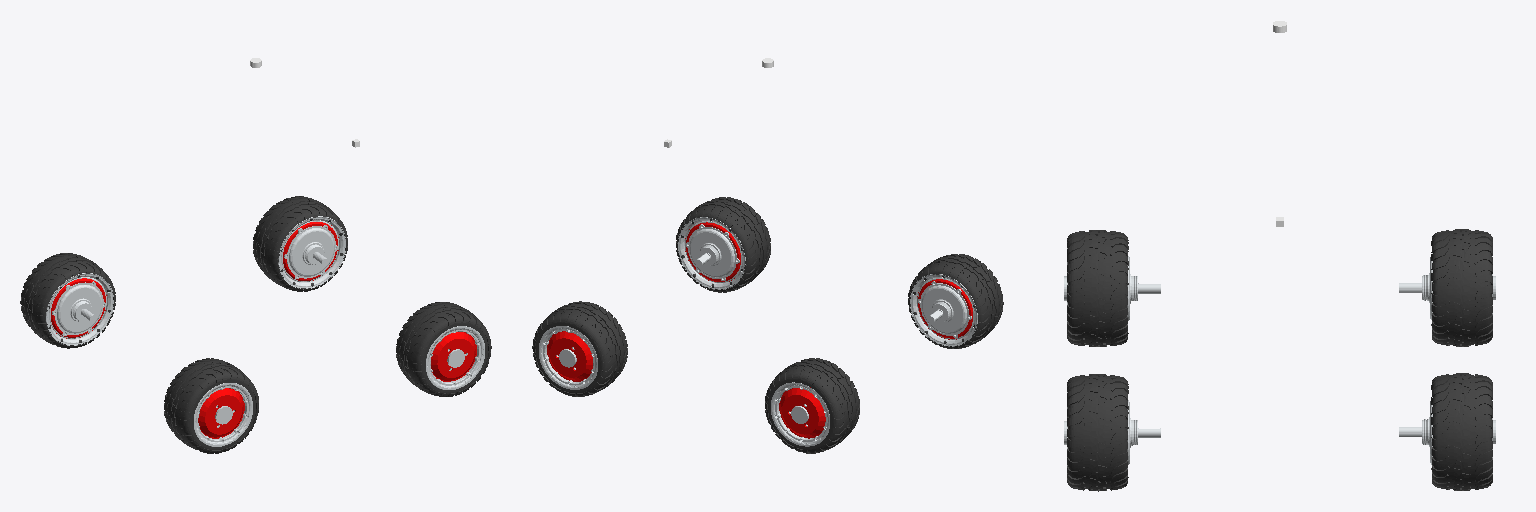
The robot description file, URDF, robot "scout_mini":
<?xml version="1.0" encoding="utf-8"?>
<!-- =================================================================================== -->
<!-- |    This document was autogenerated by xacro from mini.xacro                     | -->
<!-- |    EDITING THIS FILE BY HAND IS NOT RECOMMENDED                                 | -->
<!-- =================================================================================== -->
<robot name="scout_mini">
  <!--    <xacro:property name="track" value="0.3426" />
    <xacro:property name="wheelbase" value="0.3181"/>
    <xacro:property name="wheel_vertical_offset" value="-0.160000047342231" />-->
  <!-- Base link -->
  <link name="base_link">
    <visual>
      <origin rpy="1.57 0 -1.57" xyz="0 0 0.0"/>
      <geometry>
        <mesh filename="package://scout_description/meshes/scout_mini_base_link2.dae"/>
      </geometry>
    </visual>
    <collision>
      <origin rpy="1.57 0 -1.57" xyz="0 0 0"/>
      <geometry>
        <mesh filename="package://scout_description/meshes/scout_mini_base_link2.dae"/>
      </geometry>
    </collision>
  </link>
  <!-- <joint name="chassis_link_joint" type="fixed">
        <origin xyz="0 0 ${wheel_radius - wheel_vertical_offset}" rpy="0 0 0" />
        <parent link="base_link" />
        <child link="chassis_link" />
    </joint> -->
  <link name="inertial_link">
    <inertial>
      <mass value="60"/>
      <origin xyz="0.0 0.0 0.0"/>
      <inertia ixx="2.288641" ixy="0" ixz="0" iyy="5.103976" iyz="0" izz="3.431465"/>
    </inertial>
  </link>
  <joint name="inertial_joint" type="fixed">
    <origin rpy="0 0 0" xyz="0 0 0"/>
    <parent link="base_link"/>
    <child link="inertial_link"/>
  </joint>
  <!-- For testing, hang the robot up in the air -->
  <!-- <link name="world" />
    <joint name="world_to_base_link=" type="fixed">
        <origin xyz="0 0 0.5" rpy="0 0 0" />
        <parent link="world"/>
        <child link="base_link"/>
    </joint> -->
  <link name="front_left_wheel_link">

    <inertial>
      <mass value="3"/>
      <origin xyz="0 0 0"/>
      <inertia ixx="0.7171" ixy="0" ixz="0" iyy="0.7171" iyz="0" izz="0.1361"/>
      <!--<inertia ixx="0" ixy="0" ixz="0" iyy="0" iyz="0" izz="0" />-->
    </inertial>
    <visual>
      <origin rpy="0 0 0" xyz="0 0 0"/>
      <geometry>
        <mesh filename="package://scout_description/meshes/wheel.dae"/>
      </geometry>
    </visual>
    <collision>
      <origin rpy="0 0 0" xyz="0 0 0"/>
      <geometry>
        <mesh filename="package://scout_description/meshes/wheel.dae"/>
      </geometry>
    </collision>
  </link>
  <joint name="front_left_wheel" type="continuous">
    <!--<origin
                  xyz="0.14547 0.20835 -0.07424"
                  rpy="0 1.57 0" />-->
    <parent link="base_link"/>
    <child link="front_left_wheel_link"/>
    <origin rpy="-1.57 0 0" xyz="0.2319755 0.2082515 -0.100998"/>
    <axis rpy="0 0 0" xyz="0 0 -1"/>
  </joint>
  <link name="rear_left_wheel_link">

    <inertial>
      <mass value="3"/>
      <origin xyz="0 0 0"/>
      <inertia ixx="0.7171" ixy="0" ixz="0" iyy="0.7171" iyz="0" izz="0.1361"/>
      <!--<inertia ixx="0" ixy="0" ixz="0" iyy="0" iyz="0" izz="0" />-->
    </inertial>
    <visual>
      <origin rpy="0 0 0" xyz="0 0 0"/>
      <geometry>
        <mesh filename="package://scout_description/meshes/wheel.dae"/>
      </geometry>
    </visual>
    <collision>
      <origin rpy="0 0 0" xyz="0 0 0"/>
      <geometry>
        <mesh filename="package://scout_description/meshes/wheel.dae"/>
      </geometry>
    </collision>
  </link>
  <joint name="rear_left_wheel" type="continuous">
    <!--<origin
                  xyz="-0.17453 0.20835 -0.07424"
                  rpy="0 -1.57 0" />-->
    <parent link="base_link"/>
    <child link="rear_left_wheel_link"/>
    <origin rpy="-1.57 0 0" xyz="-0.2319755 0.2082515 -0.100998"/>
    <axis rpy="0 0 0" xyz="0 0 -1"/>
  </joint>
  <link name="front_right_wheel_link">

    <inertial>
      <mass value="3"/>
      <origin xyz="0 0 0"/>
      <inertia ixx="0.7171" ixy="0" ixz="0" iyy="0.7171" iyz="0" izz="0.1361"/>
      <!--<inertia ixx="0" ixy="0" ixz="0" iyy="0" iyz="0" izz="0" />-->
    </inertial>
    <visual>
      <origin rpy="0 0 0" xyz="0 0 0"/>
      <geometry>
        <mesh filename="package://scout_description/meshes/wheel.dae"/>
      </geometry>
    </visual>
    <collision>
      <origin rpy="0 0 0" xyz="0 0 0"/>
      <geometry>
        <mesh filename="package://scout_description/meshes/wheel.dae"/>
      </geometry>
    </collision>
  </link>
  <joint name="front_right_wheel" type="continuous">
    <!--<origin
                  xyz="-0.17453 -0.24424 -0.07424"
                  rpy="0 -1.57 0" />-->
    <parent link="base_link"/>
    <child link="front_right_wheel_link"/>
    <origin rpy="1.57 0 0" xyz="0.2319755 -0.2082515 -0.099998"/>
    <axis rpy="0 0 0" xyz="0 0 -1"/>
  </joint>
  <link name="rear_right_wheel_link">
    <!--<inertial>
        <mass value="3" />
            <origin
                    xyz="0.235244832119832 -0.0585653794466942 -0.206994929144493"
                    rpy="0 0 0" />
                    <inertia ixx="0.7171" ixy="0" ixz="0" iyy="0.1361" iyz="0" izz="0.7171" />
        </inertial>
        <visual>
            <origin xyz="0 0 0" rpy="0 0 0" />
            <geometry>
                <mesh filename="package://scout_description/meshes/wheel.dae" />
            </geometry>
        </visual>-->
    <inertial>
      <mass value="3"/>
      <origin xyz="0 0 0"/>
      <inertia ixx="0.7171" ixy="0" ixz="0" iyy="0.7171" iyz="0" izz="0.1361"/>
      <!--<inertia ixx="0" ixy="0" ixz="0" iyy="0" iyz="0" izz="0" />-->
    </inertial>
    <visual>
      <origin rpy="0 0 0" xyz="0 0 0"/>
      <geometry>
        <mesh filename="package://scout_description/meshes/wheel.dae"/>
      </geometry>
    </visual>
    <collision>
      <origin rpy="0 0 0" xyz="0 0 0"/>
      <geometry>
        <mesh filename="package://scout_description/meshes/wheel.dae"/>
      </geometry>
    </collision>
  </link>
  <joint name="rear_right_wheel" type="continuous">
    <!--<origin
                  xyz="0.19247 -0.24486 -0.073441"
                  rpy="-0 1.57 0" />-->
    <parent link="base_link"/>
    <child link="rear_right_wheel_link"/>
    <origin rpy="1.57 0 0" xyz="-0.2319755 -0.2082515 -0.099998"/>
    <axis rpy="0 0 0" xyz="0 0 -1"/>
  </joint>

  <!-- This file is a placeholder which is included by default from
       husky.urdf.xacro. If a robot is being customized and requires
       additional URDF, set the HUSKY_URDF_EXTRAS environment variable
       to the full path of the file you would like included. -->
  <!-- Additional definitions for simulation -->
  <!-- <gazebo reference="base_link">
        <material>Gazebo/Grey</material>
    </gazebo> -->
  <transmission name="front_right_wheel_trans" type="SimpleTransmission">
    <type>transmission_interface/SimpleTransmission</type>
    <actuator name="front_right_wheel_motor">
      <mechanicalReduction>1</mechanicalReduction>
    </actuator>
    <joint name="front_right_wheel">
      <hardwareInterface>hardware_interface/VelocityJointInterface</hardwareInterface>
    </joint>
  </transmission>
  <transmission name="front_left_wheel_trans" type="SimpleTransmission">
    <type>transmission_interface/SimpleTransmission</type>
    <actuator name="front_left_wheel_motor">
      <mechanicalReduction>1</mechanicalReduction>
    </actuator>
    <joint name="front_left_wheel">
      <hardwareInterface>hardware_interface/VelocityJointInterface</hardwareInterface>
    </joint>
  </transmission>
  <transmission name="rear_left_wheel_trans" type="SimpleTransmission">
    <type>transmission_interface/SimpleTransmission</type>
    <actuator name="rear_left_wheel_motor">
      <mechanicalReduction>1</mechanicalReduction>
    </actuator>
    <joint name="rear_left_wheel">
      <hardwareInterface>hardware_interface/VelocityJointInterface</hardwareInterface>
    </joint>
  </transmission>
  <transmission name="rear_right_wheel_trans" type="SimpleTransmission">
    <type>transmission_interface/SimpleTransmission</type>
    <actuator name="rear_right_wheel_motor">
      <mechanicalReduction>1</mechanicalReduction>
    </actuator>
    <joint name="rear_right_wheel">
      <hardwareInterface>hardware_interface/VelocityJointInterface</hardwareInterface>
    </joint>
  </transmission>
  <!-- Controller configurations -->
  <gazebo>
    <plugin filename="libgazebo_ros_control.so" name="gazebo_ros_control">
      <robotNamespace>/</robotNamespace>
    </plugin>
  </gazebo>
  <!-- kp spring constant, kd damping constant -->
  <gazebo>
    <mu1 value="1.0"/>
    <mu2 value="0.9"/>
    <kp value="10000000.0"/>
    <kd value="1.0"/>
    <fdir1 value="1 0 0"/>
    <minDepth value="0.001"/>
    <maxContacts value="64"/>
  </gazebo>



 <link name="laser_link">
        <inertial>
            <origin
                xyz="0.0 0.0 0.0"
                rpy="0 0 0" />
            <mass
                value="0.1" />
            <inertia
                ixx="0.0088463"
                ixy="2.0356E-05"
                ixz="-0.00047464"
                iyy="0.0066478"
                iyz="-6.9288E-06"
                izz="0.01219" />
        </inertial>
        <visual>
            <origin
                    xyz="0.0 0.0 0.0"
                    rpy="0.0 0.0 0.0" />
            <geometry>
                    <cylinder radius="0.01" length="0.01"/>
            </geometry>
            <material name = "red">
            <color rgba="1 1 1 1" />
            </material>
        </visual>
        <collision>
            <origin
                    xyz="0 0 0.31"
                    rpy="0 0 0" />
          <geometry>
                    <cylinder radius="0.06" length="0.1"/>
          </geometry>
        </collision>
    </link>

    <joint name="laser_joint" type="fixed">
        <origin xyz="0 0 0.4" rpy="0 0 0" />
        <parent link="base_link" />
        <child link="laser_link" />
    </joint>

 <link name="camera_link">
        <inertial>
            <origin
                xyz="0.0 0.0 0.0"
                rpy="0 0 0" />
            <mass
                value="0.1" />
            <inertia
                ixx="0.0088463"
                ixy="2.0356E-05"
                ixz="-0.00047464"
                iyy="0.0066478"
                iyz="-6.9288E-06"
                izz="0.01219" />
        </inertial>
        <visual>
            <origin
                    xyz="0.0 0.0 0.0"
                    rpy="0.0 0.0 0.0" />
            <geometry>
                    <box size="0.01 0.01 0.01"/>
            </geometry>
            <material name = "red">
            <color rgba="1 1 1 1" />
            </material>
        </visual>
        <collision>
            <origin
                    xyz="0 0 0.31"
                    rpy="0 0 0" />
          <geometry>
                    <box size="0.01 0.01 0.01"/>
          </geometry>
        </collision>
    </link>

    <joint name="camera_joint" type="fixed">
        <origin xyz="0.2 0 0.2" rpy="0 0 0" />
        <parent link="base_link" />
        <child link="camera_link" />
    </joint>


  <!-- <gazebo>
        <plugin name="skid_steer_drive_controller" filename="libgazebo_ros_skid_steer_drive.so">
            <updateRate>100.0</updateRate>
            <robotNamespace></robotNamespace>
            <leftFrontJoint>front_left_wheel</leftFrontJoint>
            <rightFrontJoint>front_right_wheel</rightFrontJoint>
            <leftRearJoint>rear_left_wheel</leftRearJoint>
            <rightRearJoint>rear_right_wheel</rightRearJoint>
            <wheelSeparation>4</wheelSeparation>
            <wheelDiameter>0.32918</wheelDiameter>
            <robotBaseFrame>base_link</robotBaseFrame>
            <torque>1000</torque>
            <commandTopic>cmd_vel</commandTopic>
            <broadcastTF>false</broadcastTF>
            <odometryTopic>odom</odometryTopic>
            <odometryFrame>odom</odometryFrame>
            <covariance_x>0.000100</covariance_x>
            <covariance_y>0.000100</covariance_y>
            <covariance_yaw>0.010000</covariance_yaw>
        </plugin>
    </gazebo> -->
  <!-- <gazebo>
        <plugin name="object_controller" filename="libgazebo_ros_planar_move.so">
            <commandTopic>cmd_vel</commandTopic>
            <odometryTopic>odom</odometryTopic>
            <odometryFrame>odom</odometryFrame>
            <odometryRate>20.0</odometryRate>
            <robotBaseFrame>base_footprint</robotBaseFrame>
        </plugin>
    </gazebo> -->
</robot>

--- What the picture shows (computed from the rendered views, not written in the file) ---
The picture shows the robot from 3 angles, left to right: view 1: azimuth 30°, elevation 25°; view 2: azimuth 150°, elevation 25°; view 3: azimuth 270°, elevation 25°; orthographic projection.
Robot: scout_mini — 8 links, 7 joints (4 continuous, 3 fixed); root link base_link; default pose: every joint at zero.
Visible links, largest first — view 1: front_right_wheel_link, rear_right_wheel_link, front_left_wheel_link, rear_left_wheel_link; view 2: rear_left_wheel_link, front_right_wheel_link, front_left_wheel_link, rear_right_wheel_link; view 3: front_left_wheel_link, rear_left_wheel_link, rear_right_wheel_link, front_right_wheel_link.
Boxes of the visible links, x1,y1,x2,y2 form: front_right_wheel_link: [396, 302, 491, 396]; rear_right_wheel_link: [164, 358, 258, 453]; front_left_wheel_link: [253, 196, 347, 291]; rear_left_wheel_link: [20, 253, 115, 348]; rear_left_wheel_link: [765, 358, 859, 453]; front_right_wheel_link: [676, 197, 770, 292]; front_left_wheel_link: [532, 301, 627, 396]; rear_right_wheel_link: [908, 254, 1003, 348]; front_left_wheel_link: [1399, 373, 1495, 490]; rear_left_wheel_link: [1399, 229, 1495, 346]; rear_right_wheel_link: [1064, 230, 1160, 346]; front_right_wheel_link: [1064, 374, 1160, 491].
Size in the robot's own frame: 0.6238 by 0.5865 by 0.586 metres.
4 mesh visuals loaded from 2 distinct referenced files (1 Collada DAE); not drawn: 1 (reference not matched to a file when rendering).
